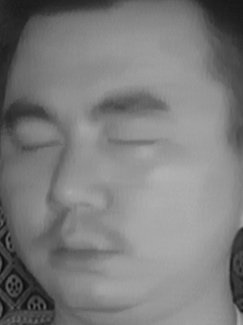blink: (10, 123, 63, 163), (105, 123, 158, 163)
mouth: (38, 220, 126, 278)
